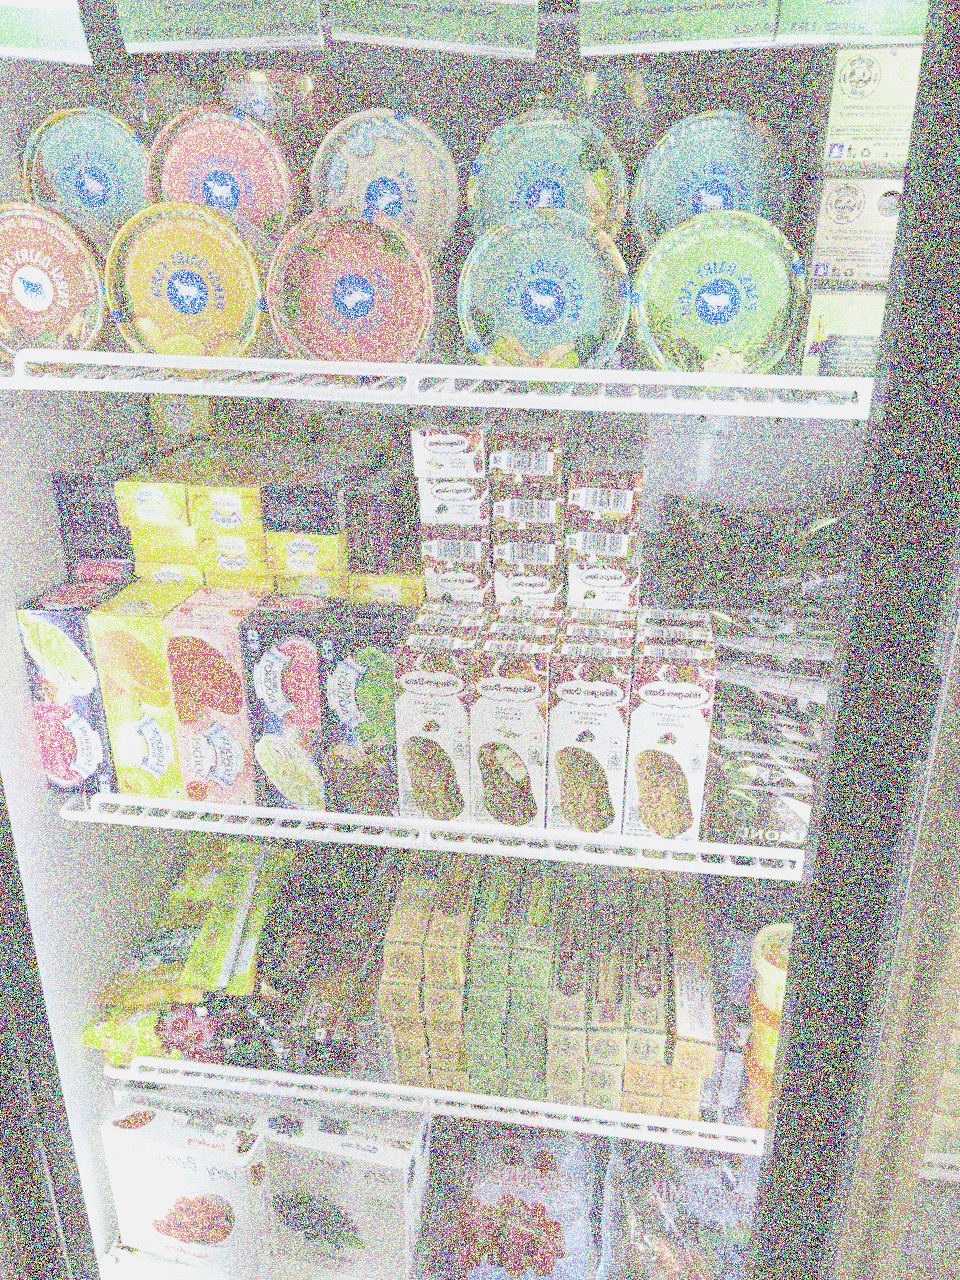Haagen-Dazs IceCream Bars: (537, 643, 643, 840), (614, 652, 721, 841), (469, 638, 554, 829), (392, 641, 477, 830), (406, 412, 498, 478), (485, 418, 575, 479), (566, 464, 651, 526), (486, 520, 564, 581), (554, 525, 648, 574), (487, 479, 565, 534), (414, 521, 493, 574), (564, 563, 646, 613), (491, 559, 565, 614), (413, 481, 488, 528), (415, 564, 496, 603)
